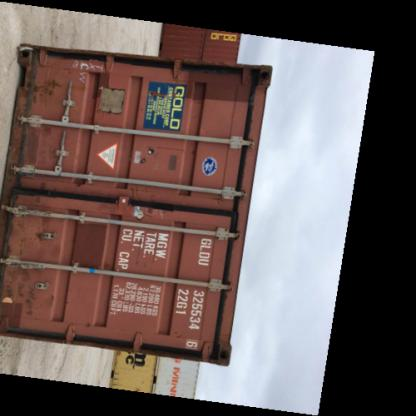Damage: (9, 196, 67, 260), (12, 121, 62, 171), (12, 266, 60, 316), (21, 67, 73, 110), (162, 150, 188, 176)
